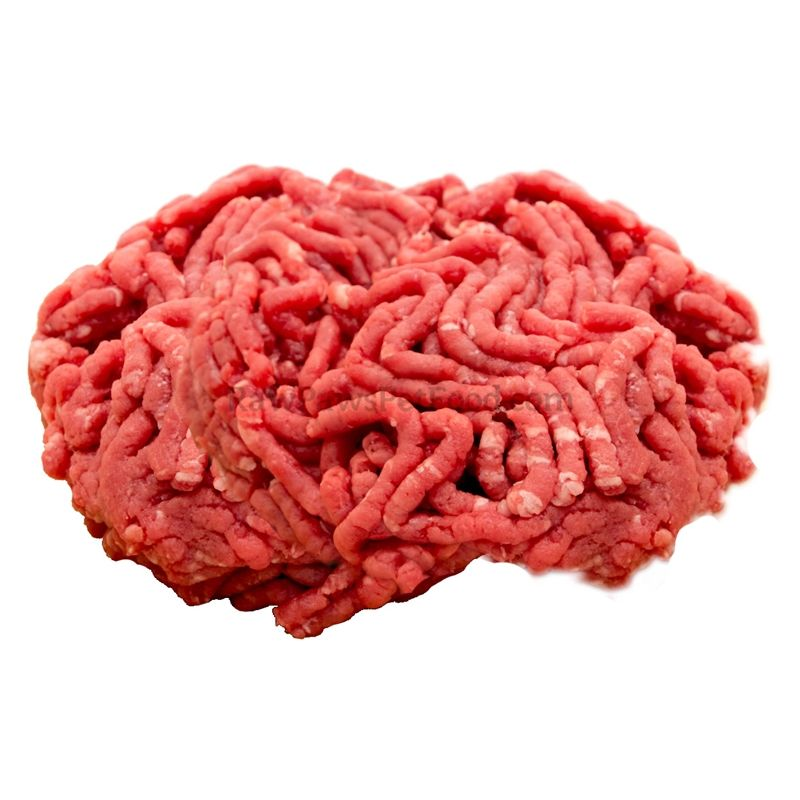ground_beef: (22, 150, 779, 647)
